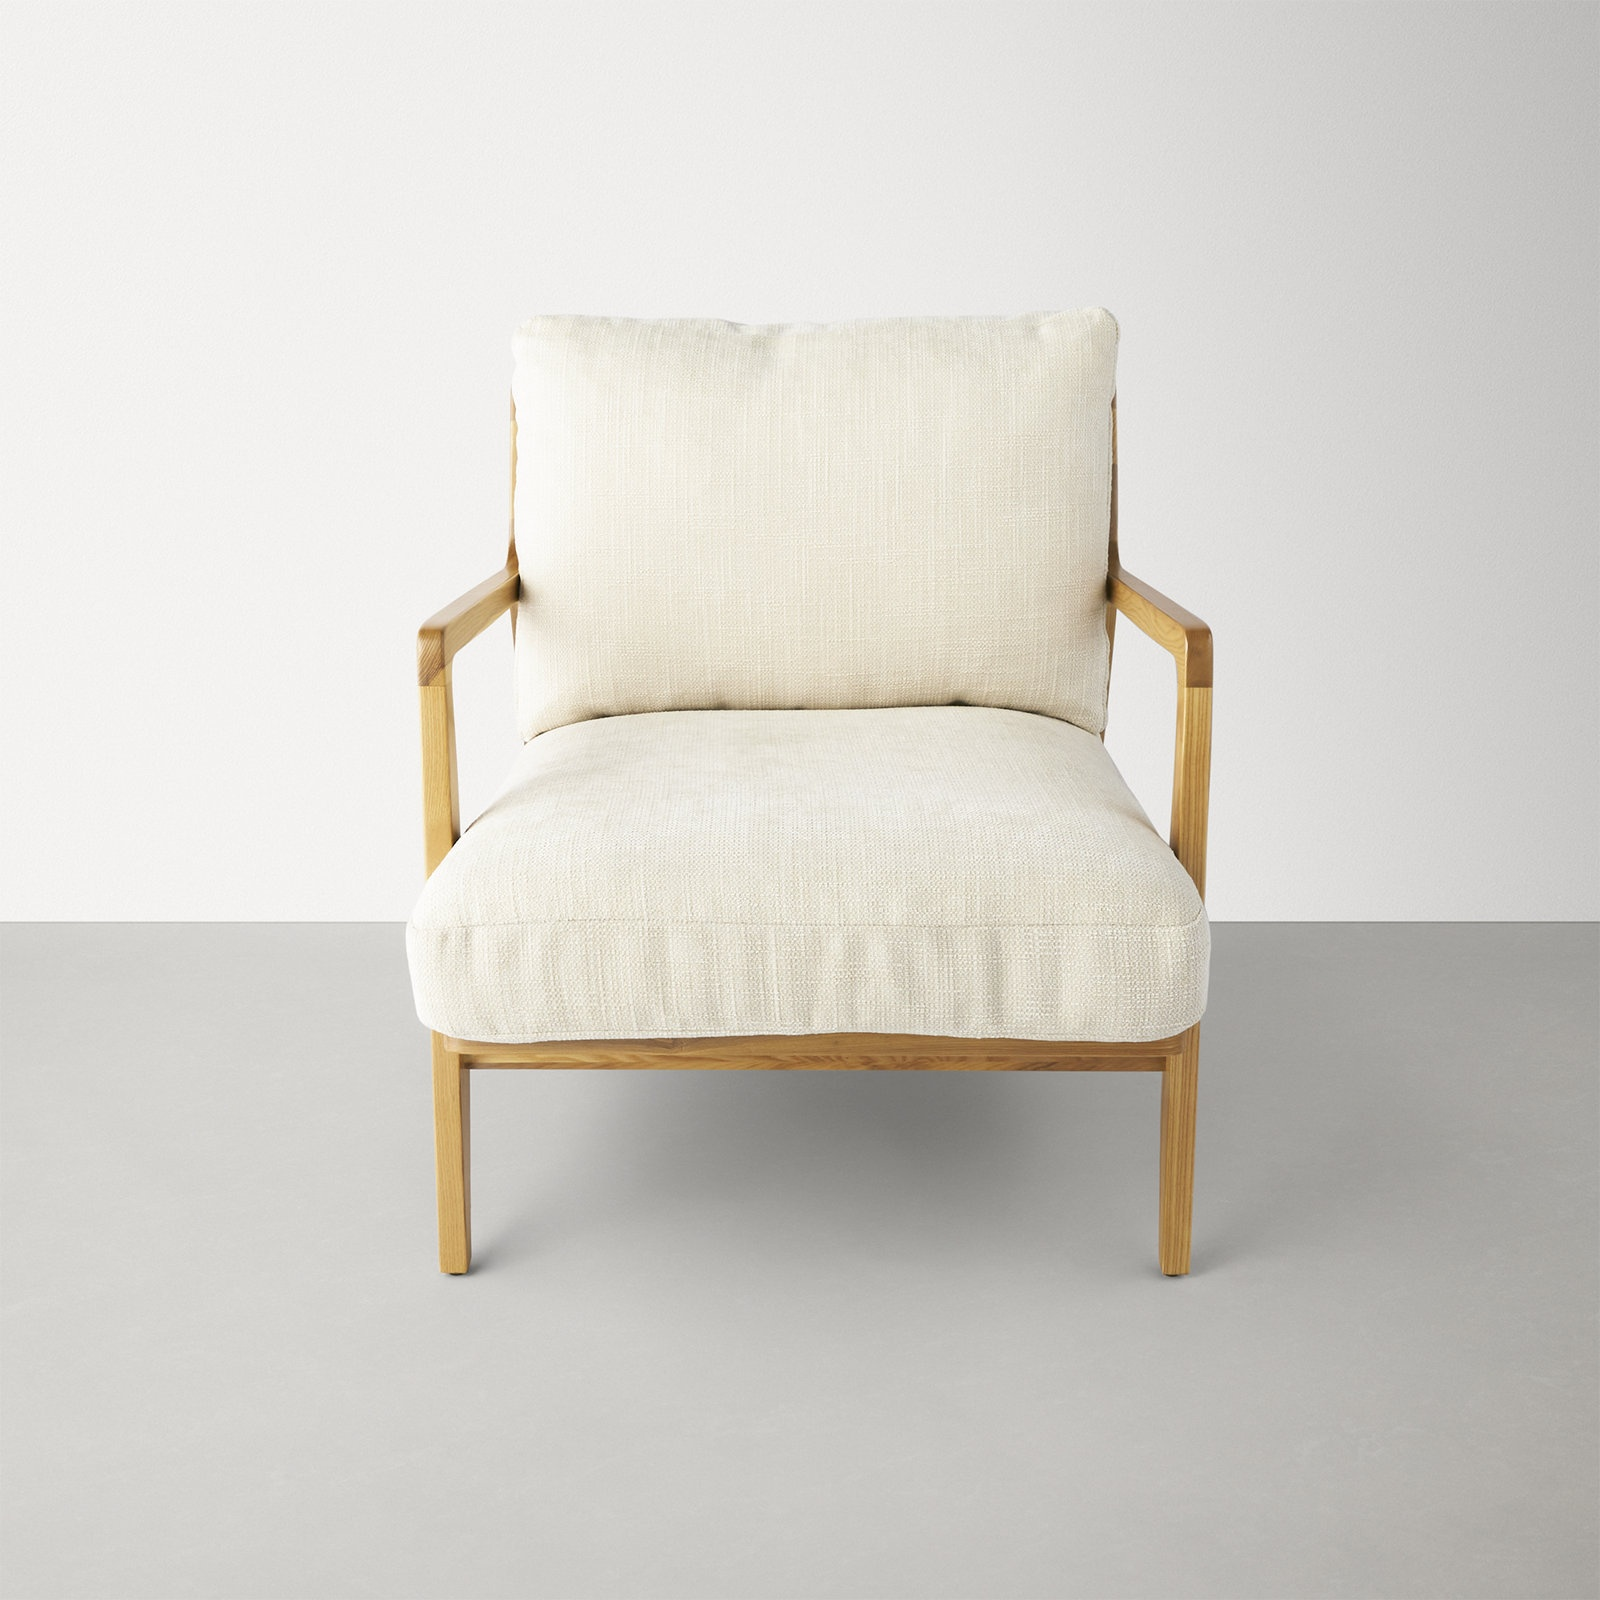obstacle: (407, 311, 1212, 1273)
